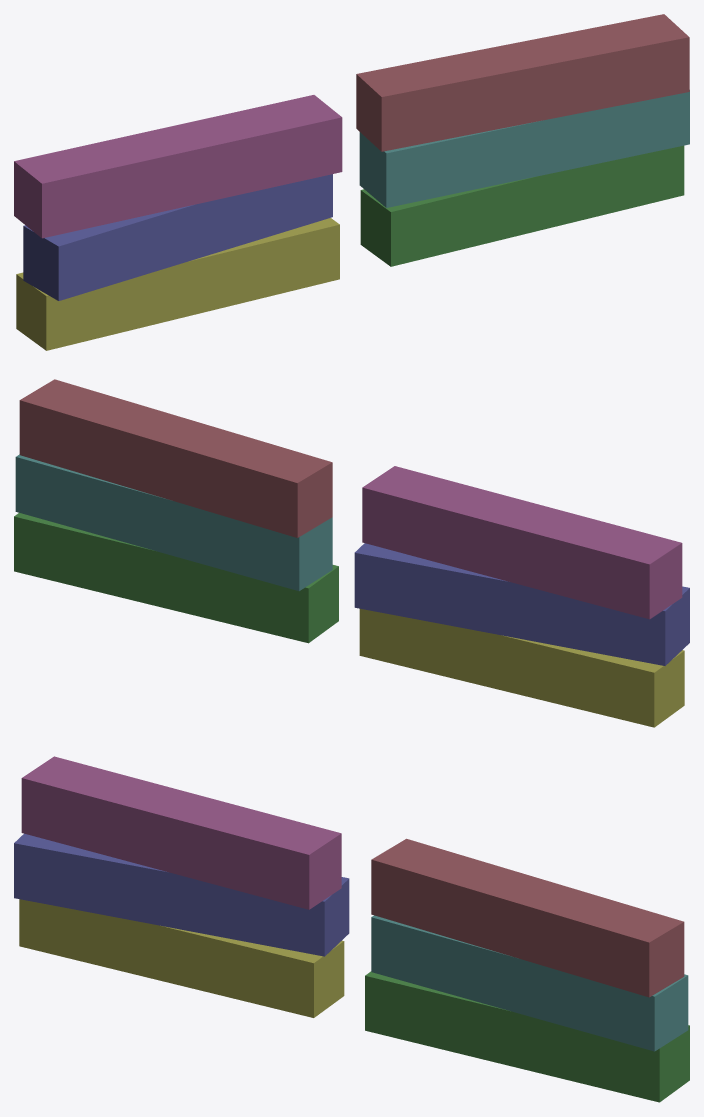
Rendered from rect_blocks.fbx.
3 renders of one model, top to bottom at view 1: azimuth 30°, elevation 25°; view 2: azimuth 150°, elevation 25°; view 3: azimuth 330°, elevation 25°, orthographic.
Parts seen in each view (by area): view 1: pasted__pCube1 (×5), pCube1; view 2: pasted__pCube1 (×5), pCube1; view 3: pasted__pCube1 (×5), pCube1.
Boxes of the visible parts, x1=… form: pasted__pCube1 (×5): x1=14, y1=14, x2=689, y2=300; pCube1: x1=16, y1=218, x2=339, y2=350; pasted__pCube1 (×5): x1=14, y1=379, x2=689, y2=665; pCube1: x1=359, y1=608, x2=684, y2=727; pasted__pCube1 (×5): x1=14, y1=756, x2=689, y2=1102; pCube1: x1=19, y1=899, x2=344, y2=1017.
Bounding box in the file's own units: 12.31 × 3.01 × 1.58.
